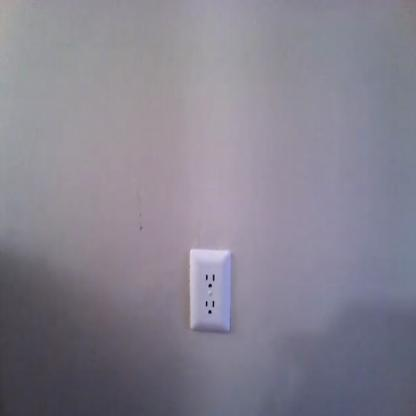OUTLET: (189, 249, 231, 333)
